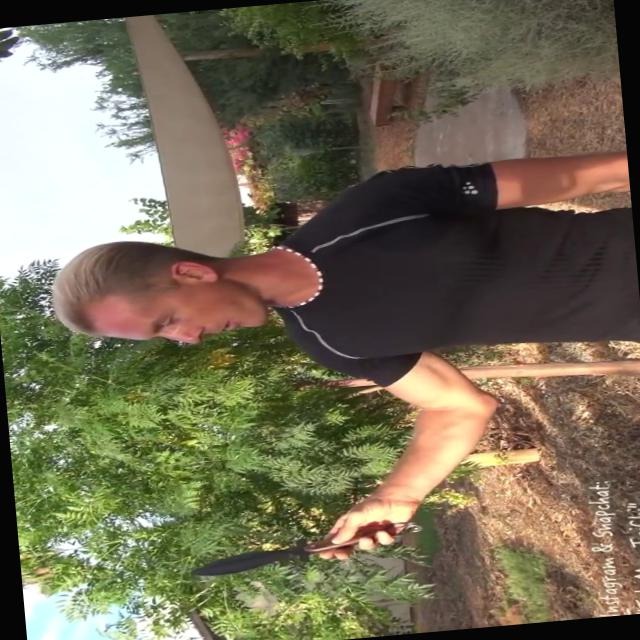knife: (182, 502, 429, 589)
